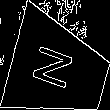N_E: (33, 44, 85, 97)
